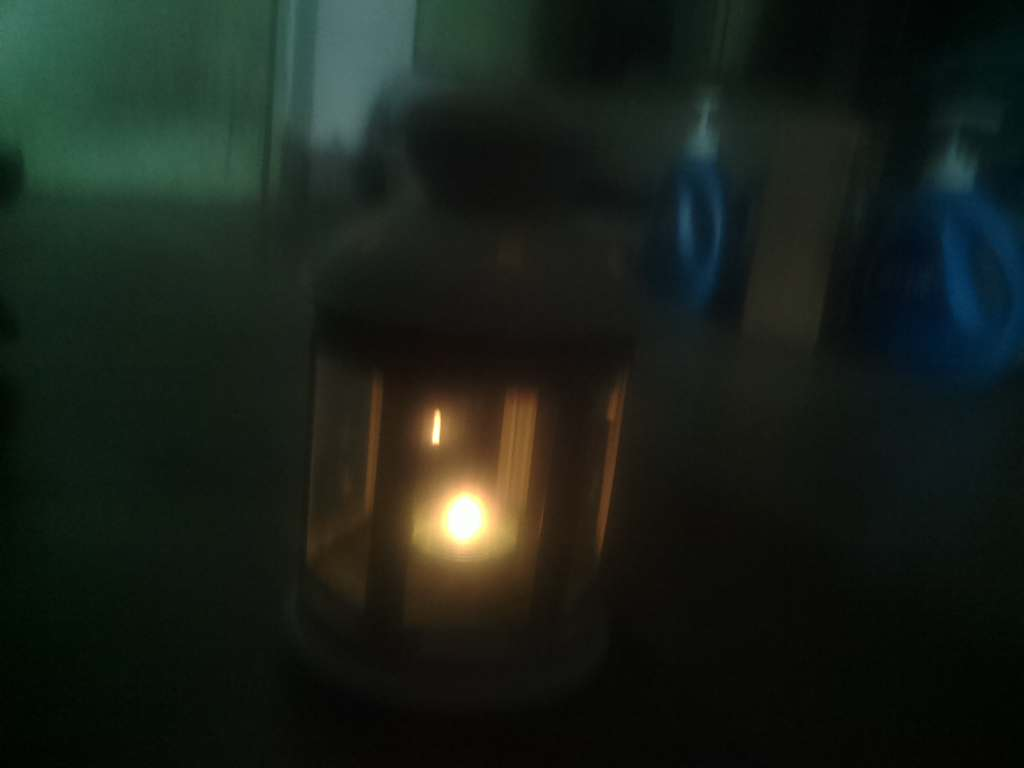fire: (400, 472, 546, 599)
